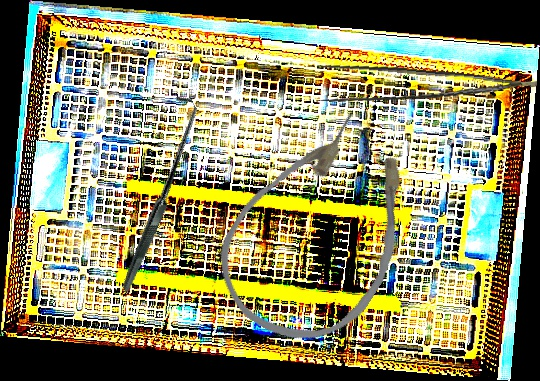Cannula: (195, 90, 450, 369)
Hook Surgical: (55, 91, 258, 293)
Tissue Forceps: (312, 58, 538, 123)
